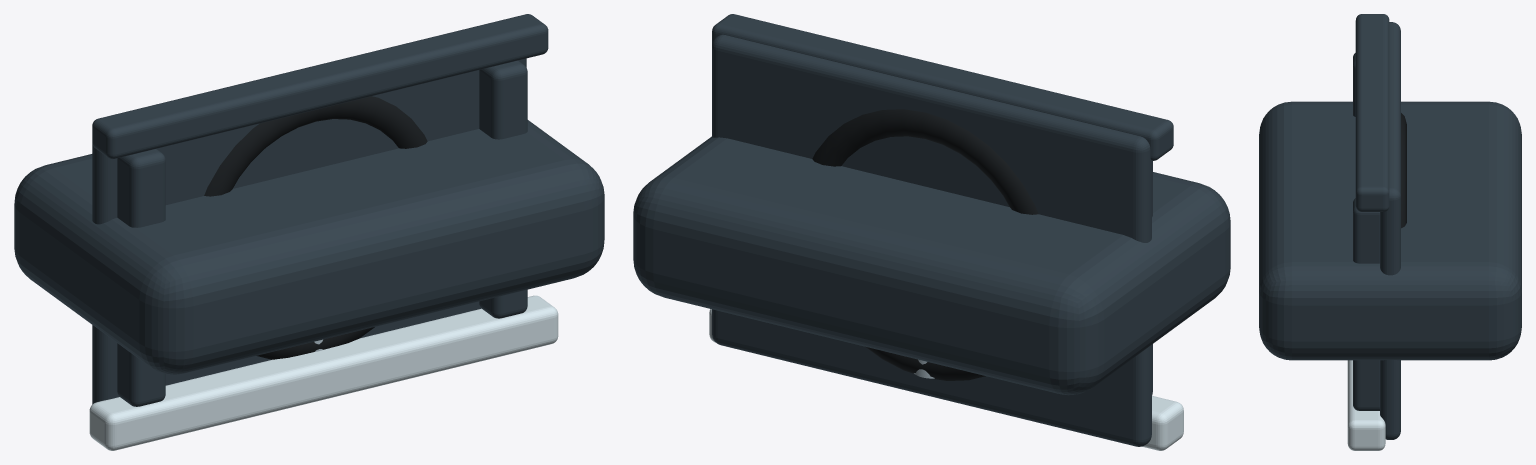
File: body_11.glb
The picture shows the model from 3 angles, left to right: view 1: azimuth 30°, elevation 25°; view 2: azimuth 150°, elevation 25°; view 3: azimuth 270°, elevation 25°; orthographic projection. The views are drawn at different scales.
Parts seen in each view (by area): view 1: asset_mesh__body_0566__reference_body, asset_mesh__body_0581__upper_flange, asset_mesh__body_0581__lower_flange, asset_mesh__body_0581__stamped_sheet, asset_mesh__body_0582__service_element, asset_mesh__body_0581__left_reinforcement, asset_mesh__body_0581__right_reinforcement; view 2: asset_mesh__body_0566__reference_body, asset_mesh__body_0581__stamped_sheet, asset_mesh__body_0581__lower_flange, asset_mesh__body_0582__service_element, asset_mesh__body_0581__upper_flange; view 3: asset_mesh__body_0566__reference_body, asset_mesh__body_0581__lower_flange, asset_mesh__body_0581__stamped_sheet, asset_mesh__body_0581__right_reinforcement, asset_mesh__body_0581__upper_flange, asset_mesh__body_0582__service_element.
Part boxes in pixels (left/top/right/bottom): asset_mesh__body_0566__reference_body: left=14, top=120, right=604, bottom=374; asset_mesh__body_0581__upper_flange: left=89, top=295, right=558, bottom=450; asset_mesh__body_0581__lower_flange: left=92, top=14, right=548, bottom=158; asset_mesh__body_0581__stamped_sheet: left=92, top=58, right=526, bottom=404; asset_mesh__body_0582__service_element: left=204, top=96, right=427, bottom=359; asset_mesh__body_0581__left_reinforcement: left=117, top=149, right=165, bottom=406; asset_mesh__body_0581__right_reinforcement: left=479, top=60, right=527, bottom=318; asset_mesh__body_0566__reference_body: left=633, top=136, right=1230, bottom=395; asset_mesh__body_0581__stamped_sheet: left=712, top=34, right=1151, bottom=446; asset_mesh__body_0581__lower_flange: left=712, top=14, right=1173, bottom=160; asset_mesh__body_0582__service_element: left=812, top=109, right=1038, bottom=380; asset_mesh__body_0581__upper_flange: left=709, top=309, right=1183, bottom=450; asset_mesh__body_0566__reference_body: left=1259, top=101, right=1521, bottom=360; asset_mesh__body_0581__lower_flange: left=1355, top=14, right=1389, bottom=211; asset_mesh__body_0581__stamped_sheet: left=1380, top=22, right=1400, bottom=439; asset_mesh__body_0581__right_reinforcement: left=1353, top=198, right=1379, bottom=410; asset_mesh__body_0581__upper_flange: left=1347, top=360, right=1385, bottom=450; asset_mesh__body_0582__service_element: left=1401, top=113, right=1406, bottom=228.
Bounding box in the file's own units: 1.47 × 0.9694 × 0.882.
